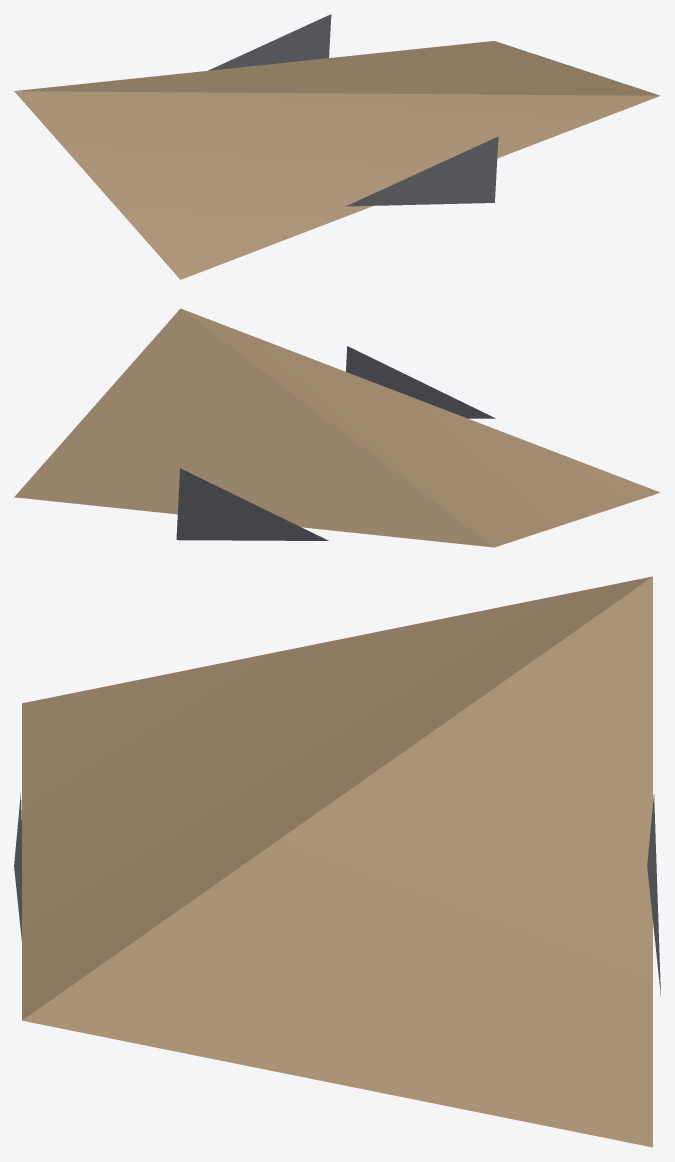
The model's file is Prop_AppleBox_Full_LOD2.glb.
3 views of the same model, one above another, from view 1: azimuth 30°, elevation 25°; view 2: azimuth 150°, elevation 25°; view 3: azimuth 270°, elevation 25° (orthographic). The views are drawn at different scales.
Visible parts, largest first — view 1: Prop_AppleBox_Full_LOD2; view 2: Prop_AppleBox_Full_LOD2; view 3: Prop_AppleBox_Full_LOD2.
Part boxes in pixels (box(x1,y1,x2,y2)): Prop_AppleBox_Full_LOD2: box(14, 14, 660, 279); Prop_AppleBox_Full_LOD2: box(14, 308, 660, 547); Prop_AppleBox_Full_LOD2: box(14, 576, 660, 1147).
Bounding box in the file's own units: 0.508 × 0.07 × 0.3127.
